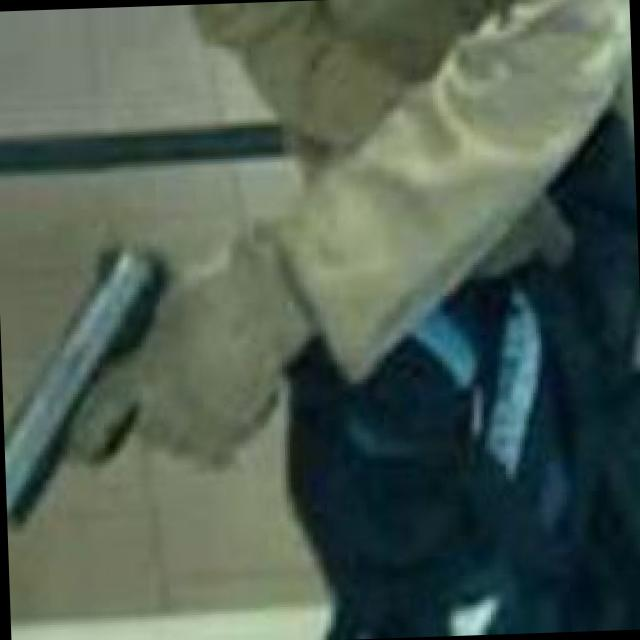Guns: (0, 165, 307, 560)
